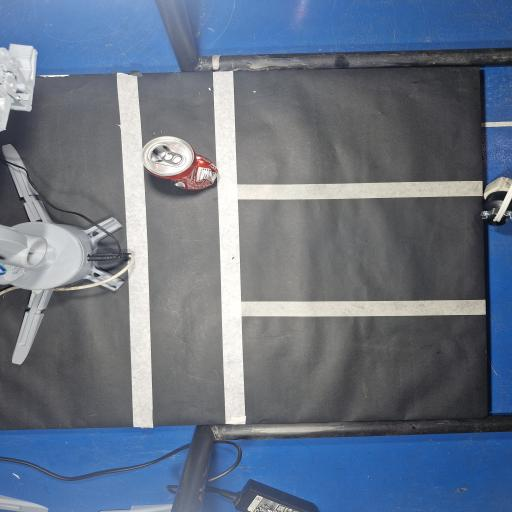lata_defectuoso: (141, 137, 218, 190)
